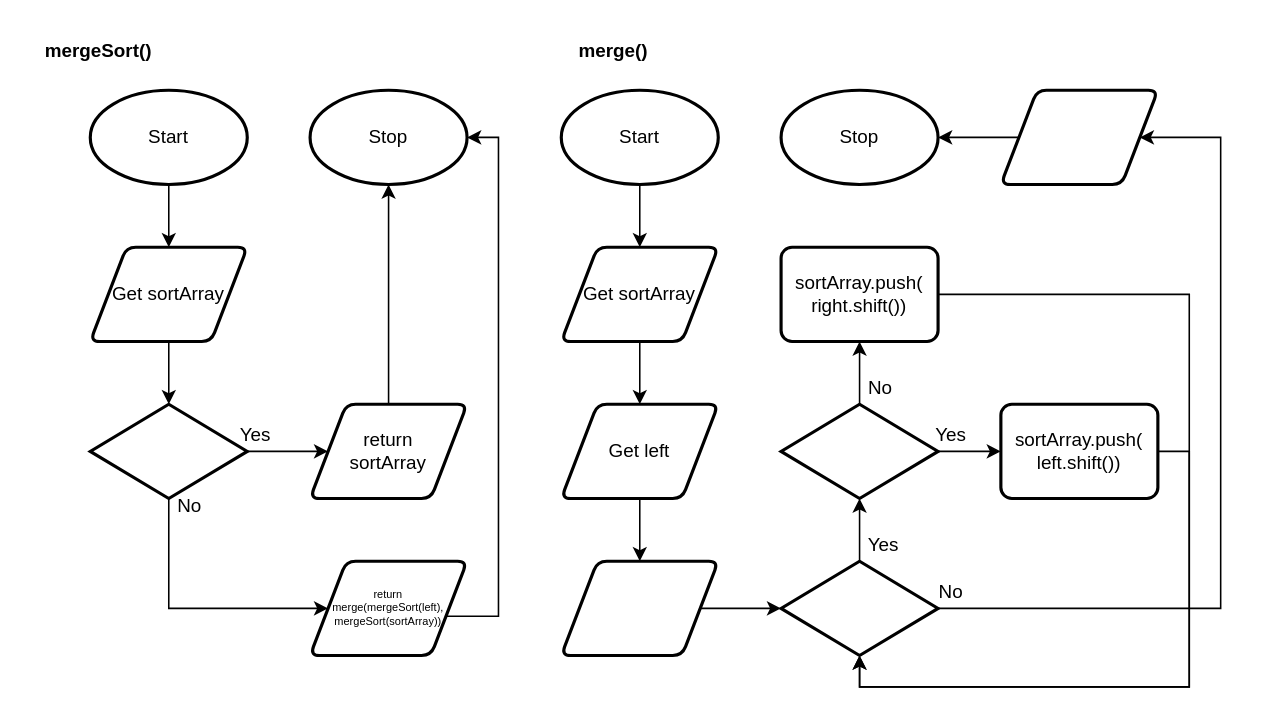
Image size: 1261x727. Some labels were removed from this diagram. Here are the shapes that lost their labels. From the top down, the box of each, then its label:
(999, 88, 1159, 185): return [...sortArray, ...left, ...right]
(88, 402, 248, 499): if (sortArray.length < 2)
(779, 402, 939, 499): if (left[0] < right[0])
(559, 559, 719, 656): Get right
(779, 559, 939, 656): while (left.length && right.length)
